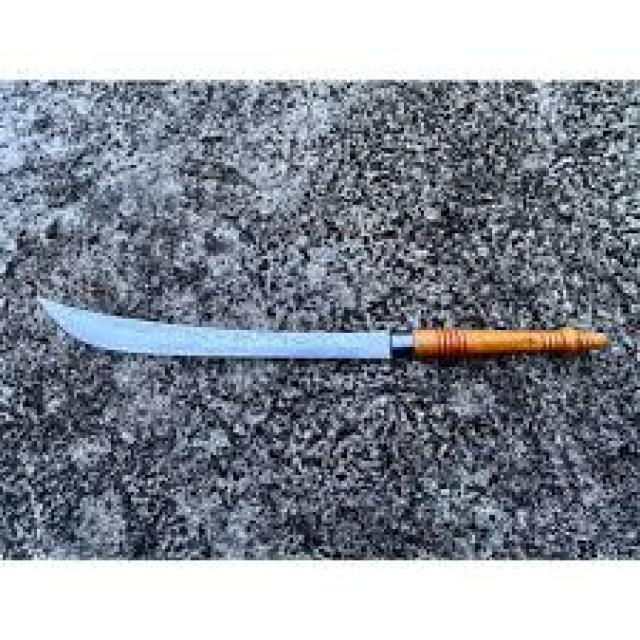long sword: (22, 290, 608, 380)
